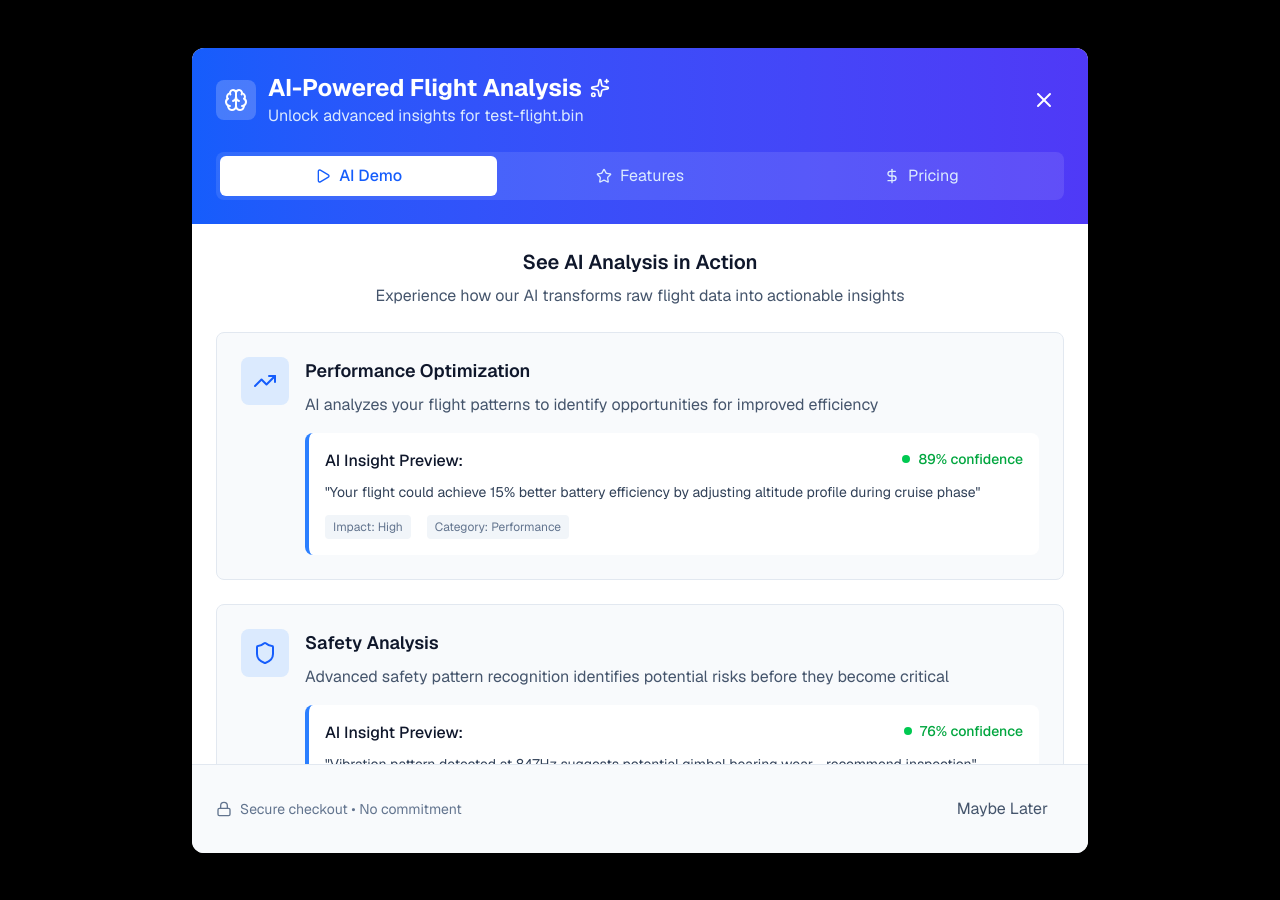
Test: AiPreviewModal › Tab Navigation › should switch to features tab when clicked
What coordinates should you click on to do the following:
click the button "Features"
I would click on:
 (640, 176)
Its box is [501,156,779,196].
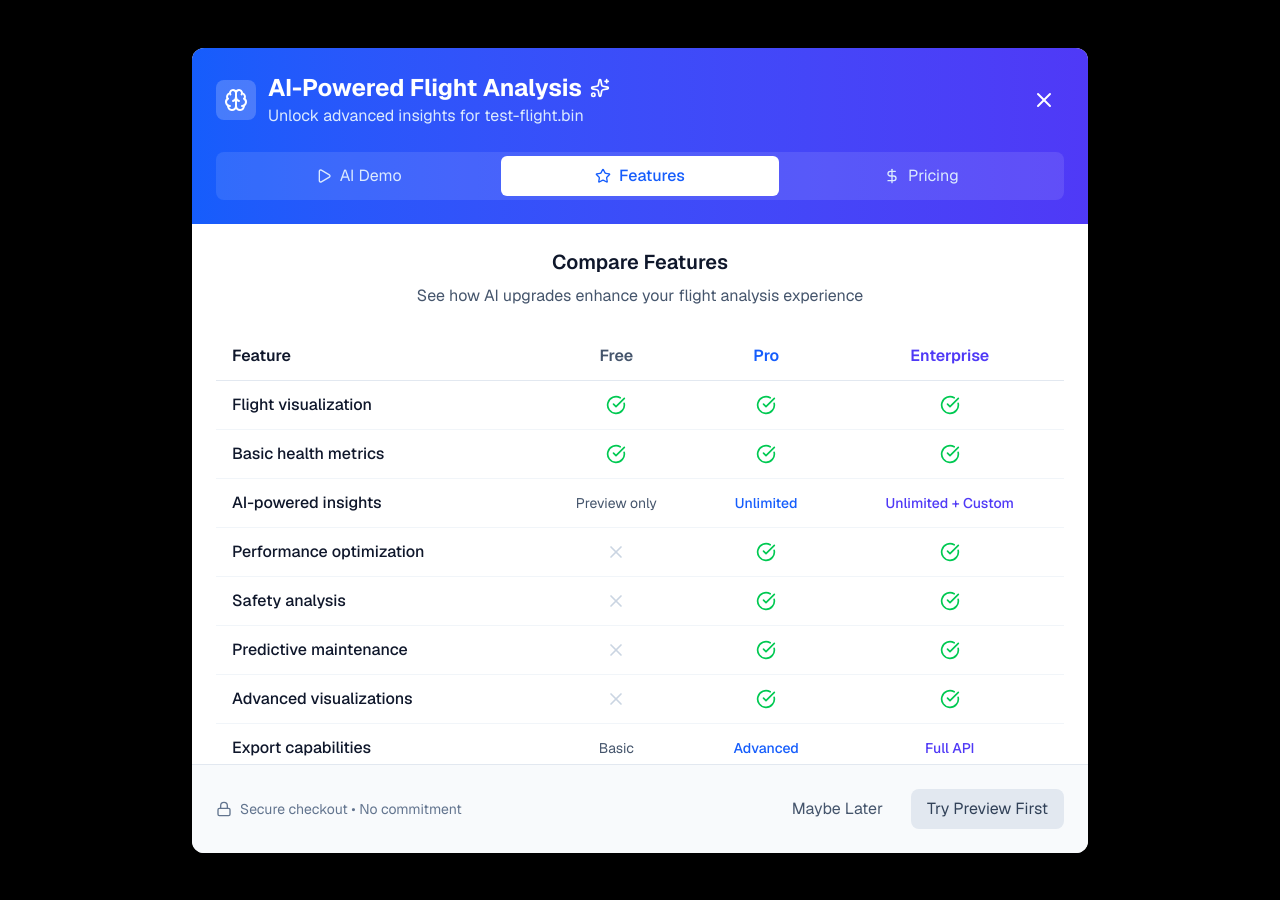
Now the heading "Compare Features" is shown, box [552,248,728,274]
Now the text "Flight visualization" is shown, box [216,380,536,429]
